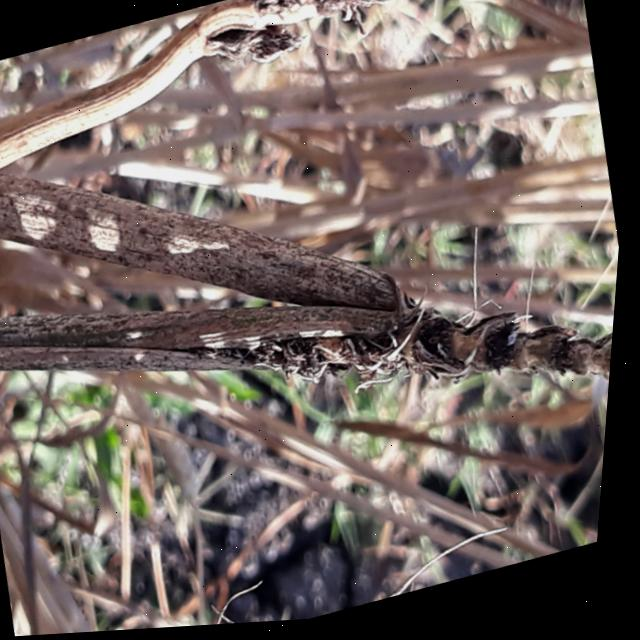loose_charred: (243, 145, 630, 493), (0, 114, 295, 461), (165, 0, 585, 105)
